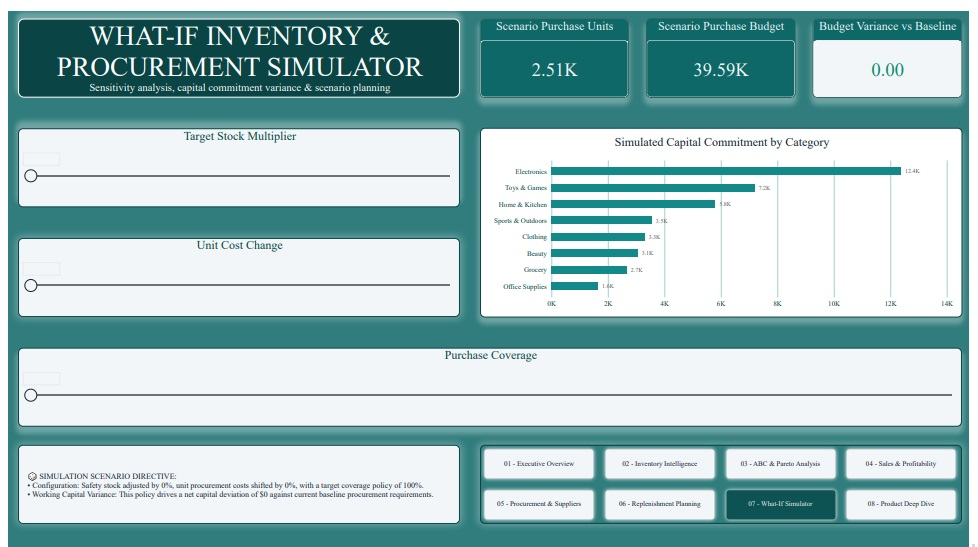

What the dashboard file says about the page in this screenshot:
{"tool":"powerbi","page":{"name":"07 - What-If Simulator","canvas":[1920,1080],"ordinal":6},"visuals":[{"type":"textbox","title":"WHAT-IF INVENTORY & PROCUREMENT SIMULATOR","box":[20,15,882.5,157.5],"z":0},{"type":"slicer","title":"Target Stock Multiplier","fields":{"Values":["Target Stock Multiplier.Target Stock Multiplier"]},"box":[20,234,883,158],"z":1000},{"type":"slicer","title":"Unit Cost Change","fields":{"Values":["Unit Cost Change 2.Unit Cost Change"]},"box":[20,453,883,158],"z":2000},{"type":"slicer","title":"Purchase Coverage","fields":{"Values":["Purchase Coverage.Purchase Coverage"]},"box":[20,672,1886,158],"z":3000},{"type":"cardVisual","title":"Scenario Purchase Units","fields":{"Data":["_Measure.Scenario Purchase Units"]},"box":[942.5,15,297.5,157.5],"z":4000},{"type":"cardVisual","title":"Scenario Purchase Budget","fields":{"Data":["_Measure.Scenario Purchase Budget"]},"box":[1275.4,15,297.5,157.5],"z":5000},{"type":"cardVisual","title":"Budget Variance vs Baseline","fields":{"Data":["_Measure.Budget Difference vs Baseline"]},"box":[1608.3,15,297.5,157.5],"z":6000},{"type":"clusteredBarChart","title":"Simulated Capital Commitment by Category","fields":{"Category":["DimCategory.Category"],"Y":["_Measure.Scenario Purchase Budget"]},"box":[943.3,233.3,963.3,378.3],"z":7000},{"type":"cardVisual","fields":{"Data":["_Measure.Scenario Insight Text 7"]},"box":[20,866,883,158],"z":8000},{"type":"pageNavigator","box":[943,866,963,158],"z":9000}]}

Visuals, with their boxes in screenshot pixels (x1, y1, x2, y2), scaled from the page's 1920x1080 canvas onto the 978x547 screenshot:
"WHAT-IF INVENTORY & PROCUREMENT SIMULATOR" textbox: box=[10, 8, 460, 87]
"Target Stock Multiplier" slicer: box=[10, 119, 460, 199]
"Unit Cost Change" slicer: box=[10, 229, 460, 309]
"Purchase Coverage" slicer: box=[10, 340, 971, 420]
"Scenario Purchase Units" cardVisual: box=[480, 8, 632, 87]
"Scenario Purchase Budget" cardVisual: box=[650, 8, 801, 87]
"Budget Variance vs Baseline" cardVisual: box=[819, 8, 971, 87]
"Simulated Capital Commitment by Category" clusteredBarChart: box=[480, 118, 971, 310]
cardVisual - _Measure.Scenario Insight Text 7: box=[10, 439, 460, 519]
pageNavigator: box=[480, 439, 971, 519]
